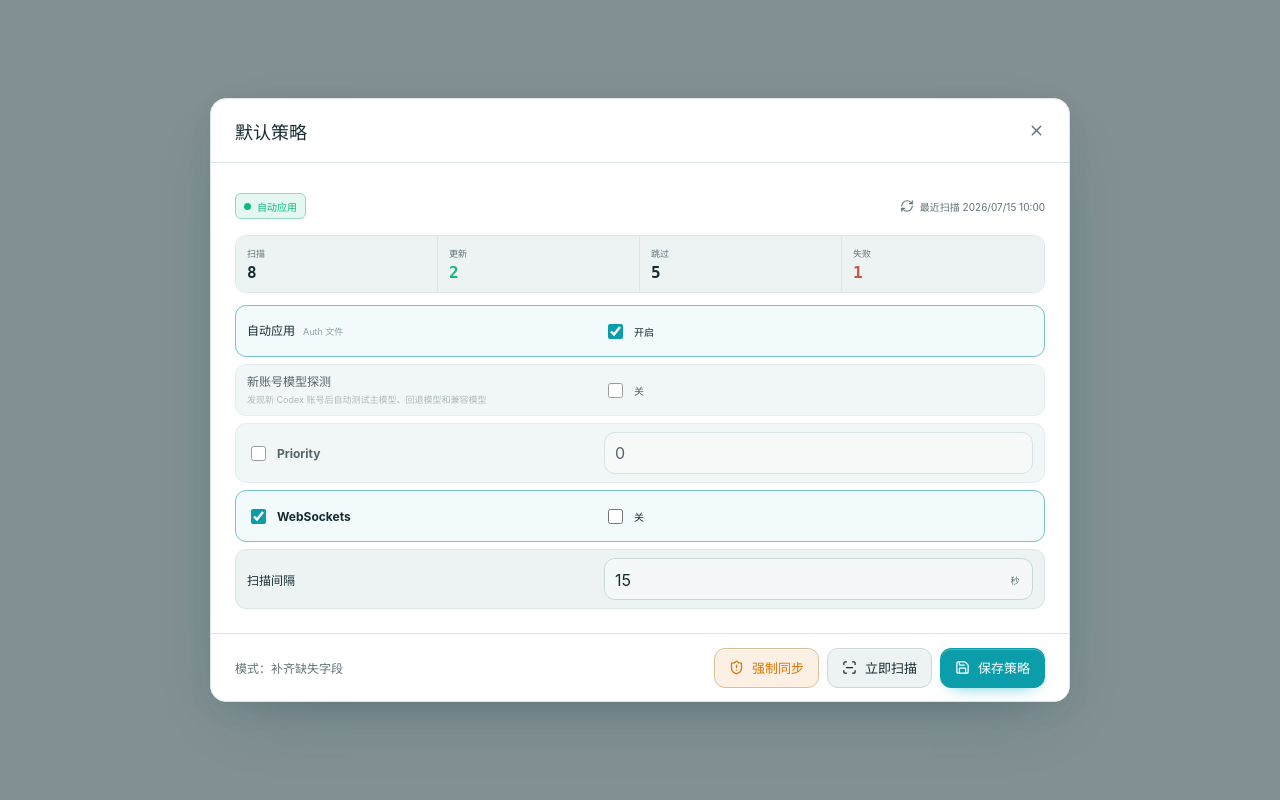
Test: PolicyDialog › requires unsaved edits to be persisted before scan or force actions
Expected: the button "立即扫描" is enabled, top-left (827, 648), bottom-right (932, 688)
Expected: the button "强制同步" is enabled, top-left (714, 648), bottom-right (819, 688)
Click the checkbox labelled "Priority": (258, 453) top-left (251, 446), bottom-right (266, 460)
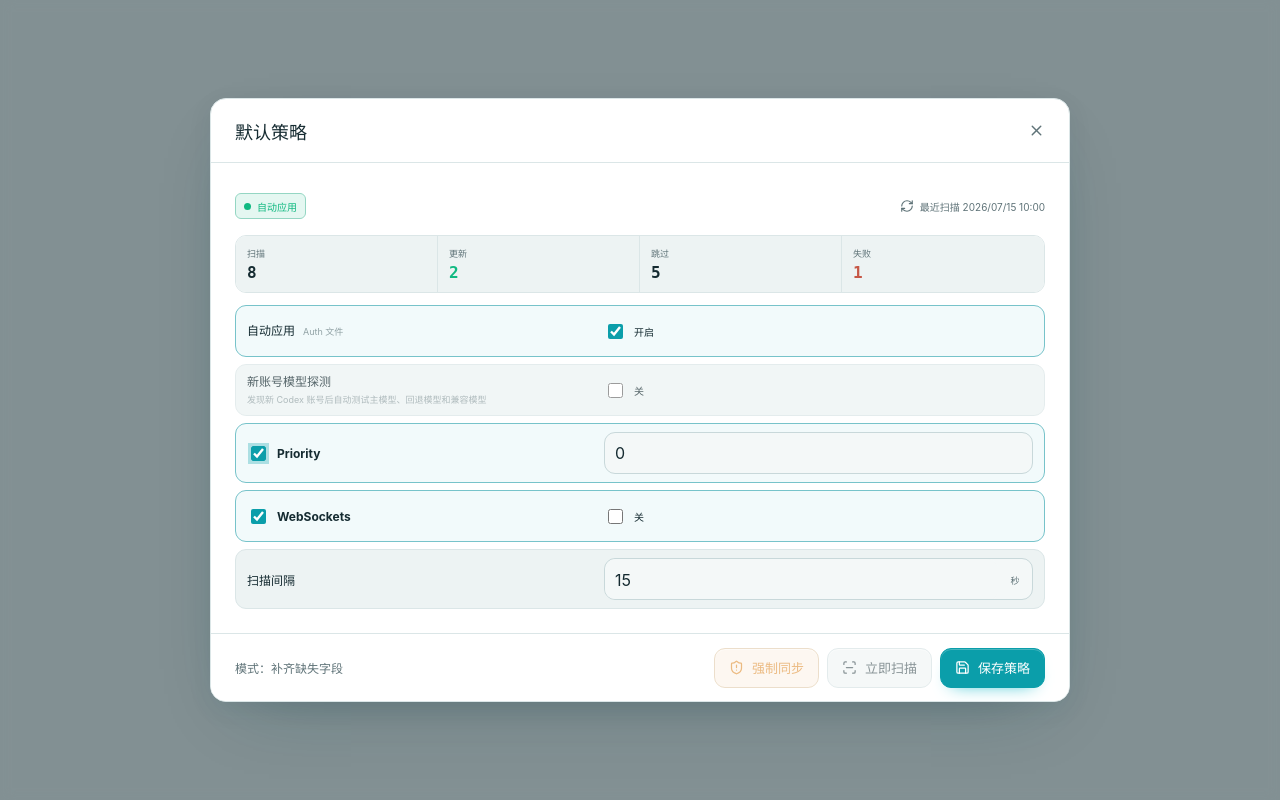
Expected: the button "立即扫描" is disabled, top-left (827, 648), bottom-right (932, 688)
Expected: the button "强制同步" is disabled, top-left (714, 648), bottom-right (819, 688)
